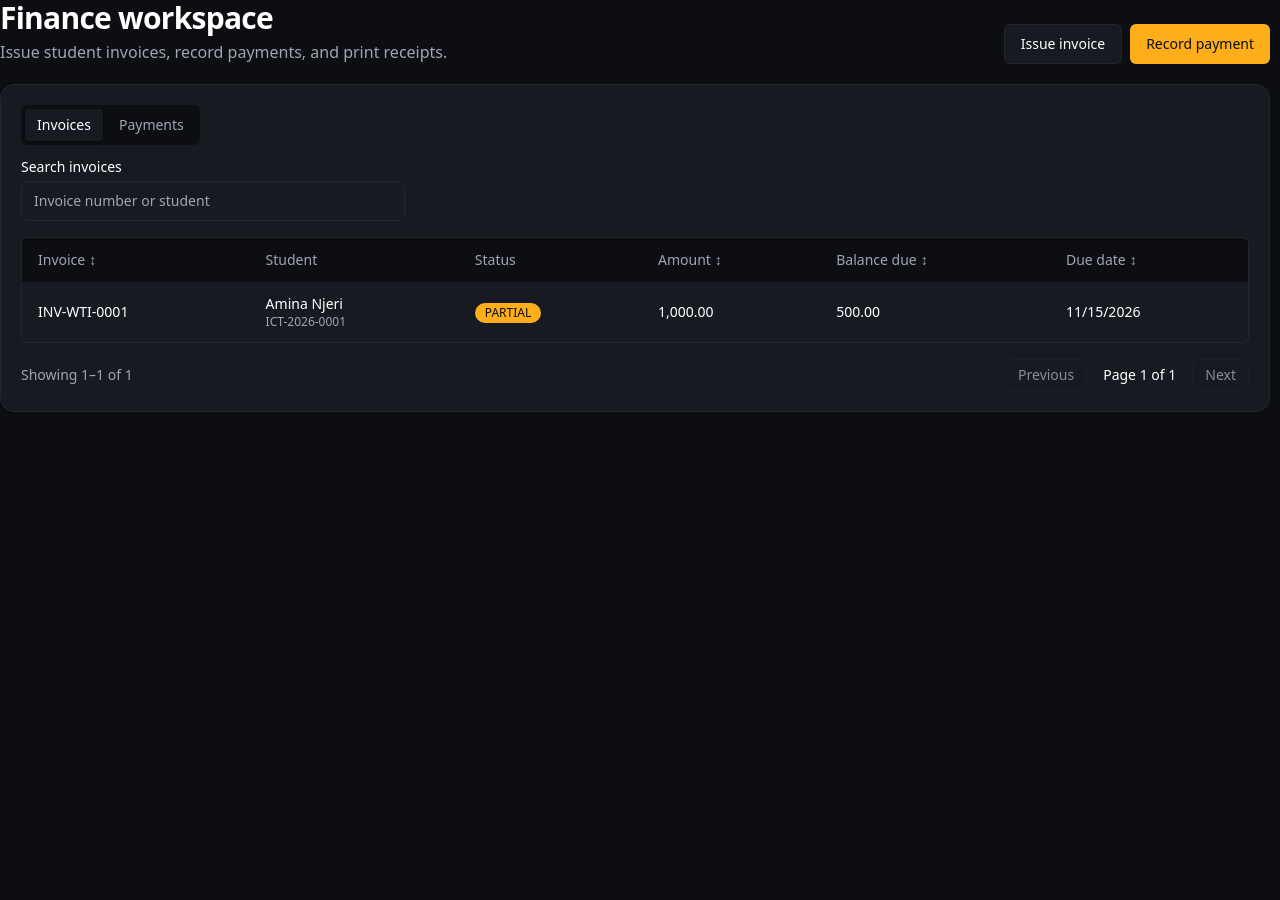
Test case: Finance › issues an invoice with the selected student and fee structure
expect the text "INV-WTI-0001" is shown: met, box [22, 282, 250, 342]
Click the button "Issue invoice". click: (1063, 44)
box: [1004, 24, 1122, 64]
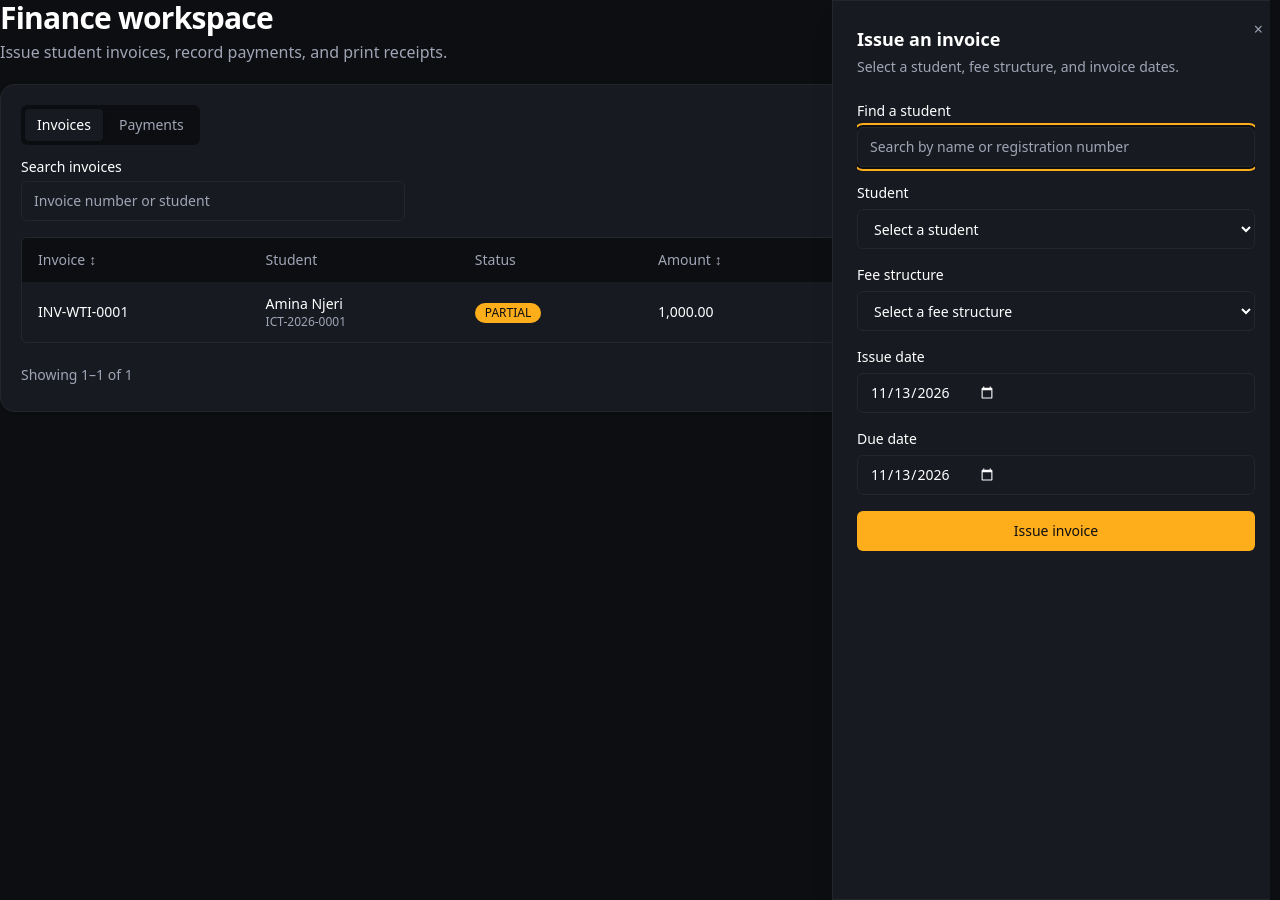
Select "ICT-2026-0001 — Amina Njeri" in the dropdown labelled "Student". click: (1056, 229)
box: [857, 209, 1255, 249]
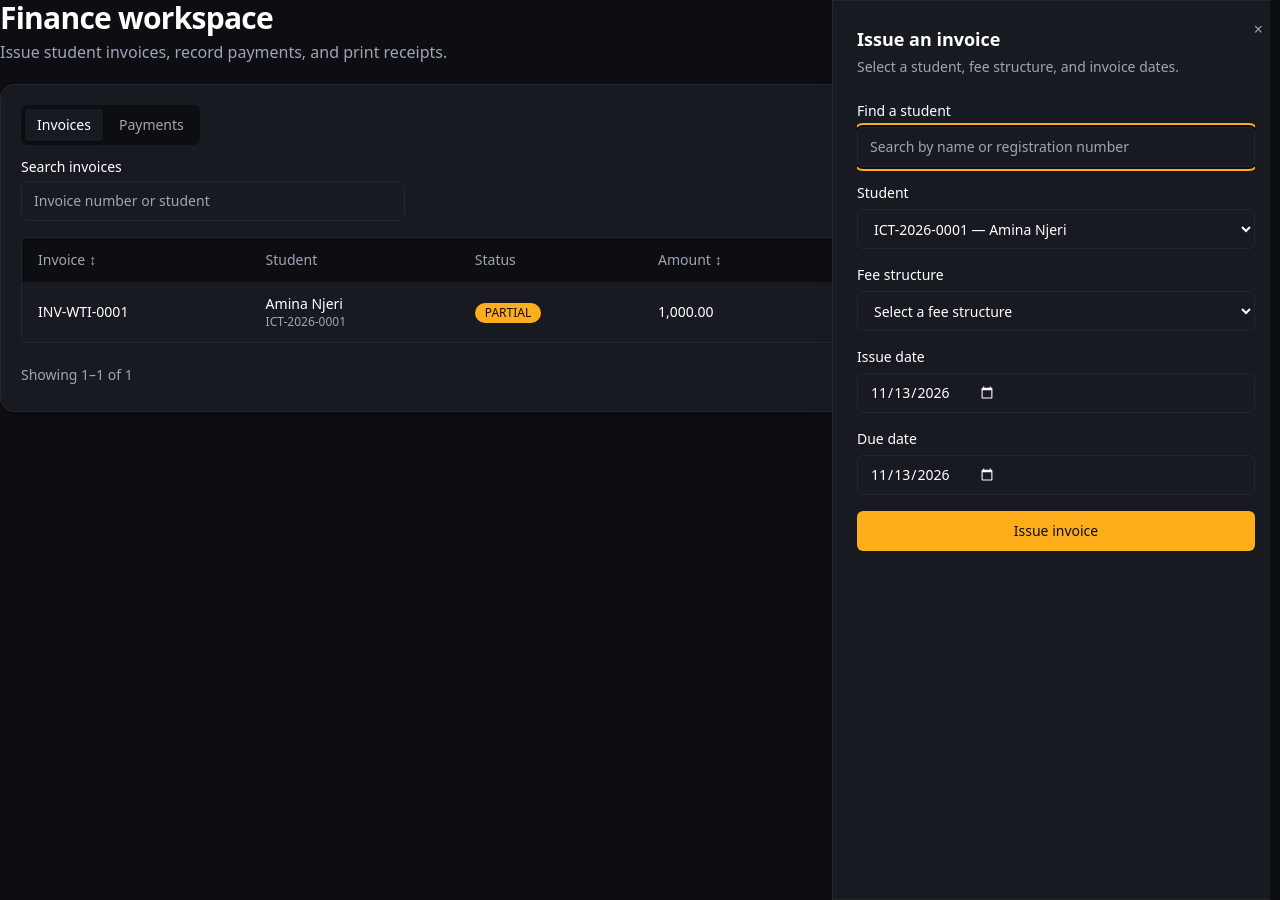
Select "TUITION — Tuition (1,000.00)" in the dropdown labelled "Fee structure". click: (1056, 311)
box: [857, 291, 1255, 331]
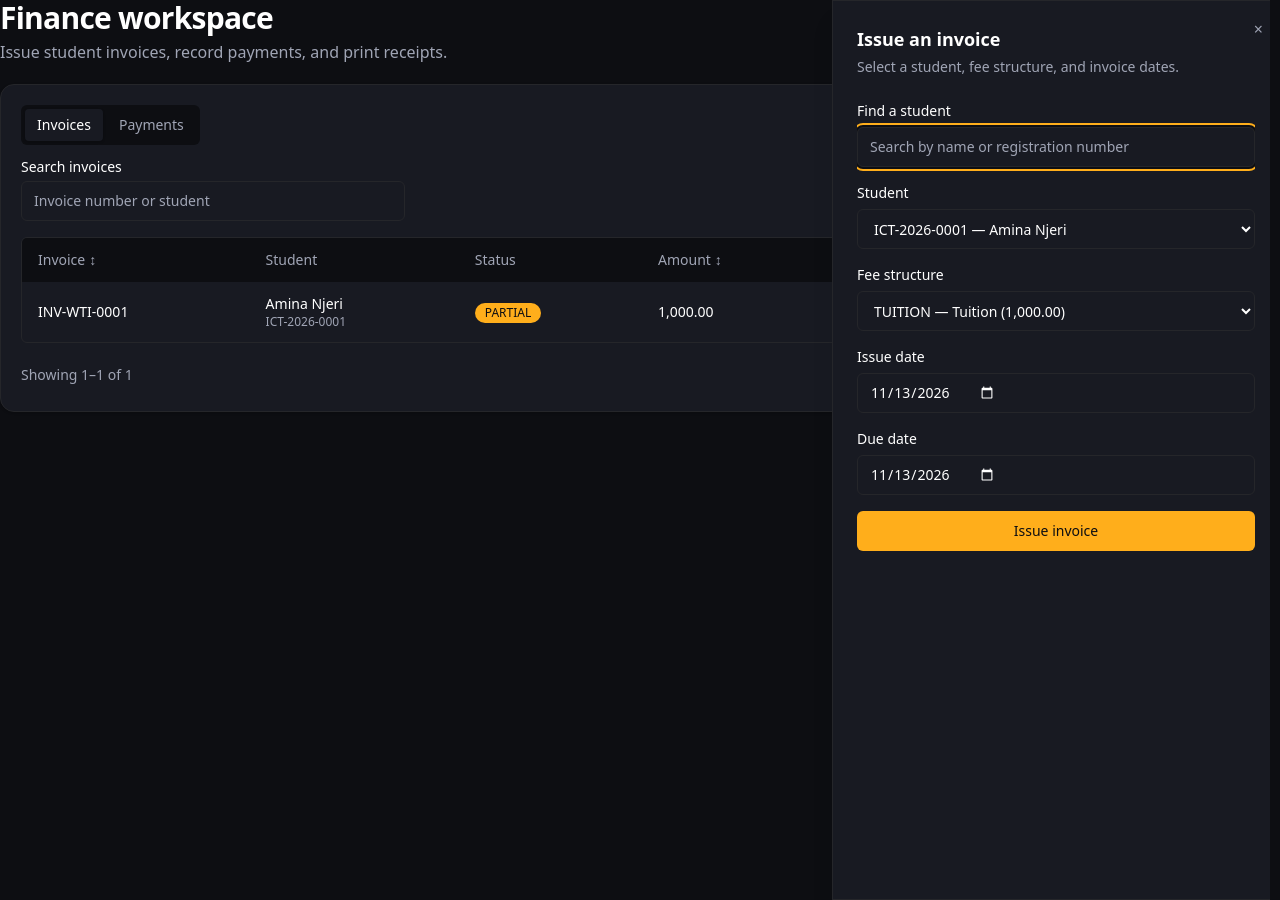
Click the button "Issue invoice". click: (1056, 531)
box: [857, 511, 1255, 551]
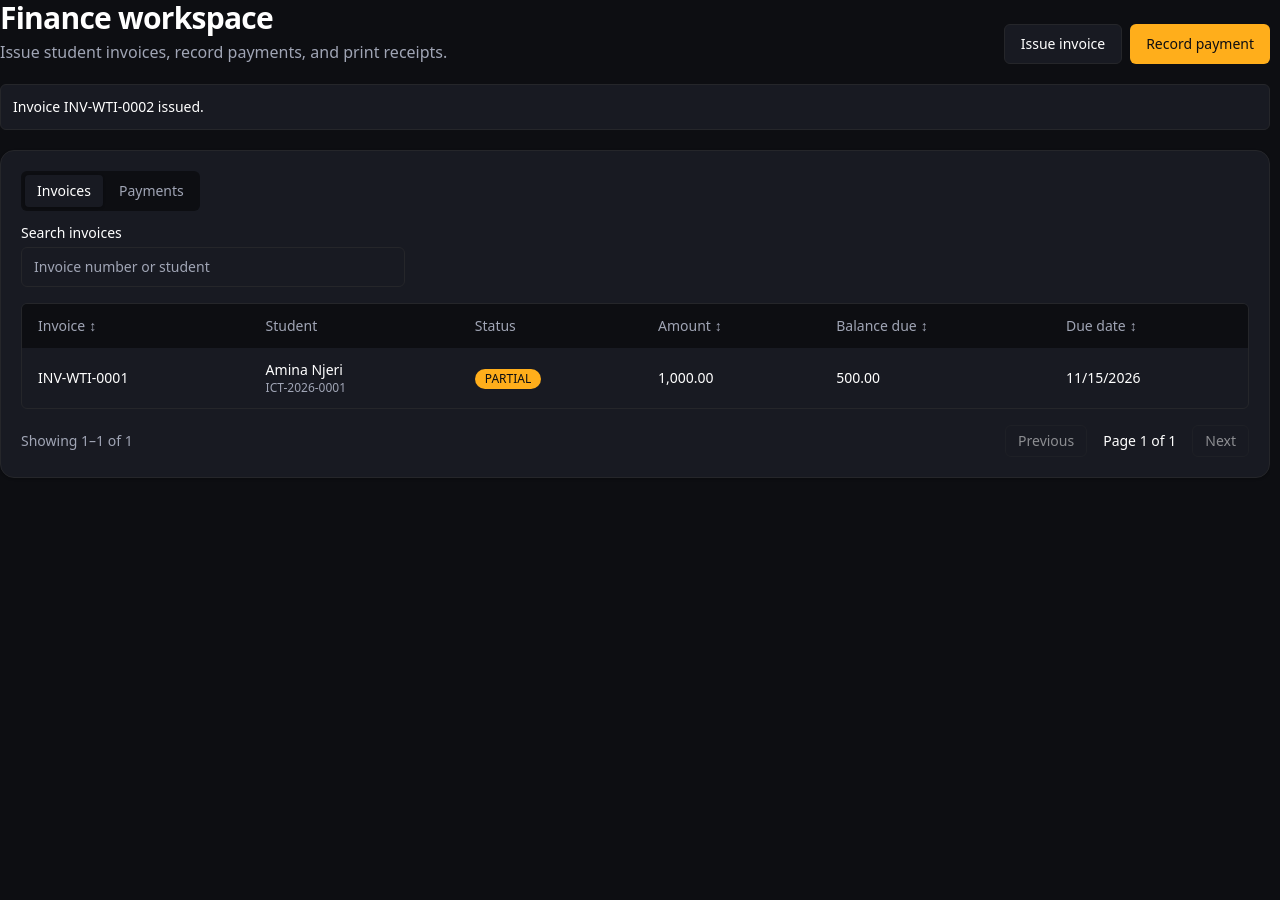
expect the text "Invoice INV-WTI-0002 issued." is shown: met, box [0, 84, 1270, 130]
